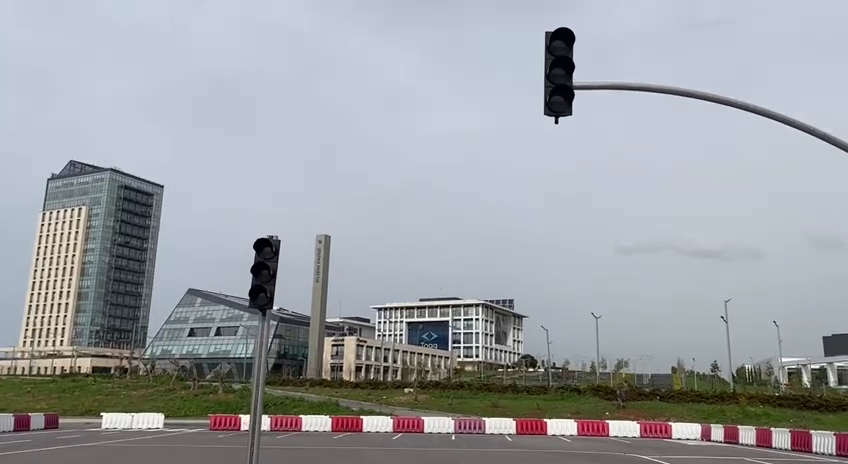trafficLight: (538, 22, 577, 127), (244, 230, 286, 317)
